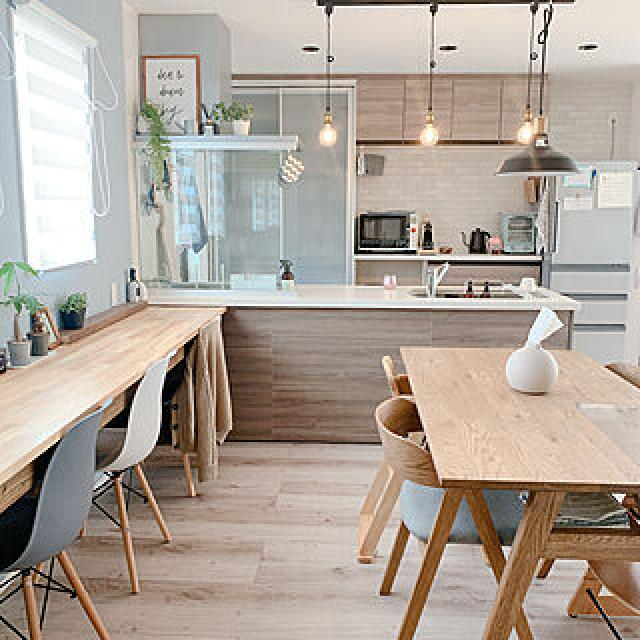modern desk: (399, 338, 640, 640), (3, 296, 229, 502)
